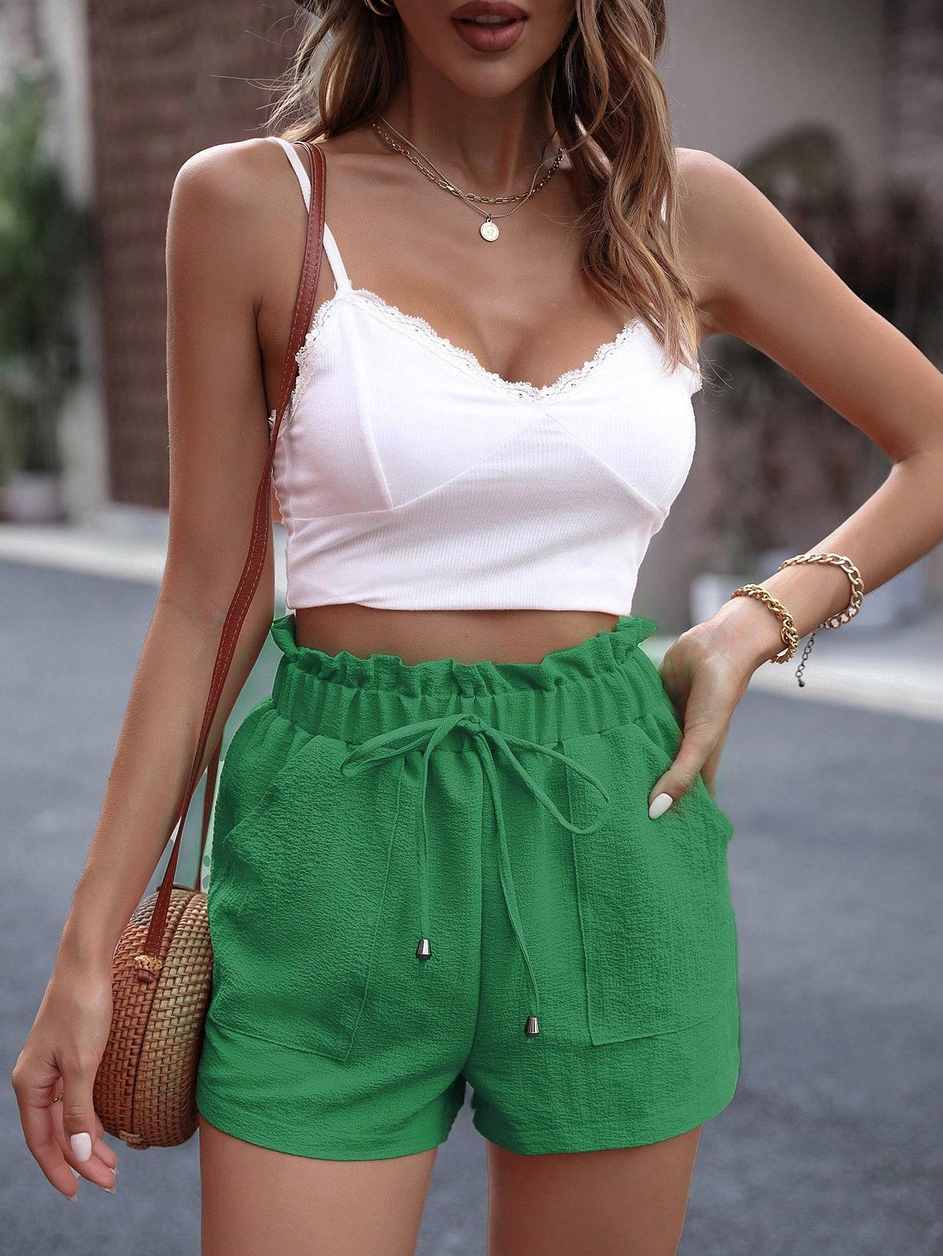Shorts: (182, 607, 752, 1164)
vest: (254, 123, 706, 617)
